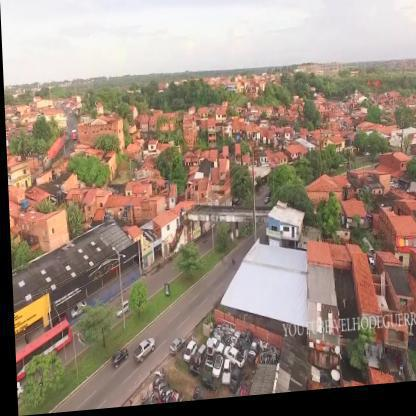lixo: (181, 319, 259, 388)
